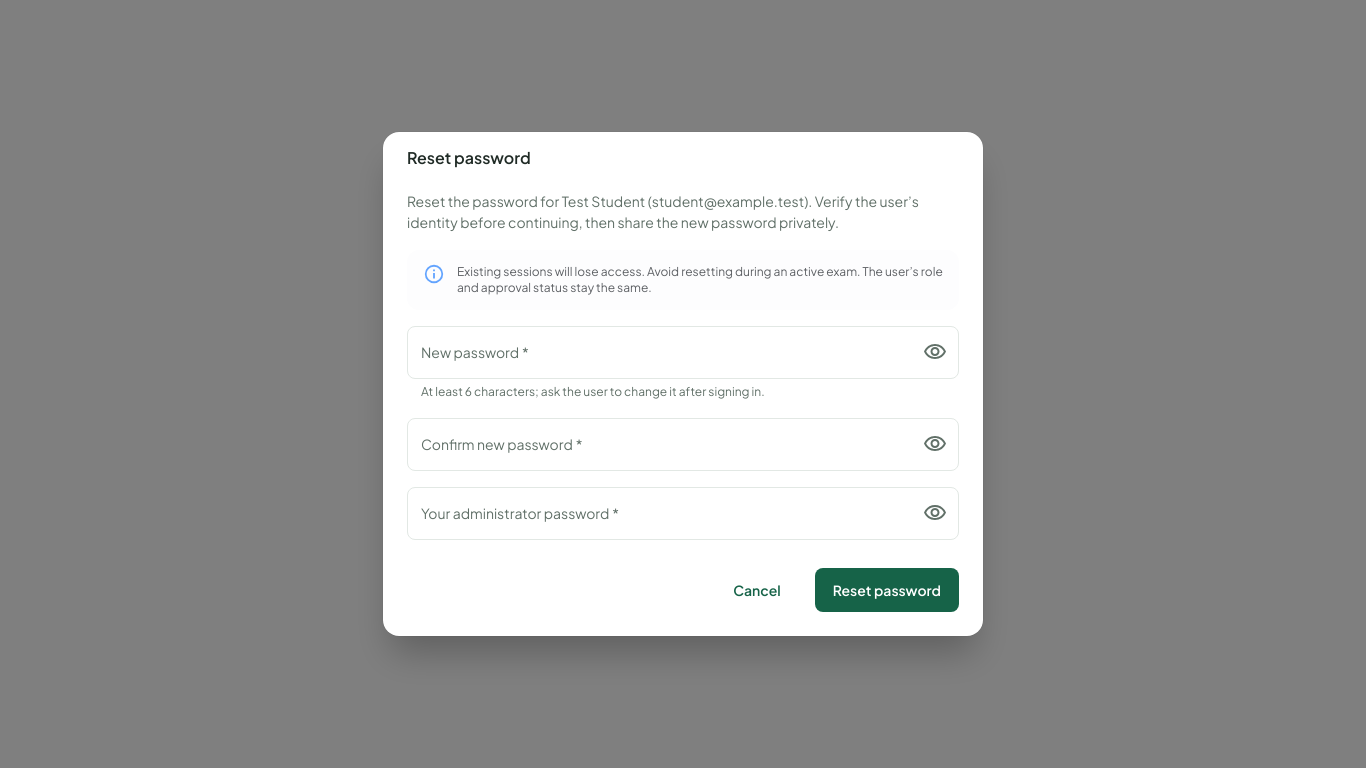
failed administrator verification keeps the form available for retry
Type "new-password" into the password field labelled "New password *" at {"x": 656, "y": 352}, box [407,326,905,379]
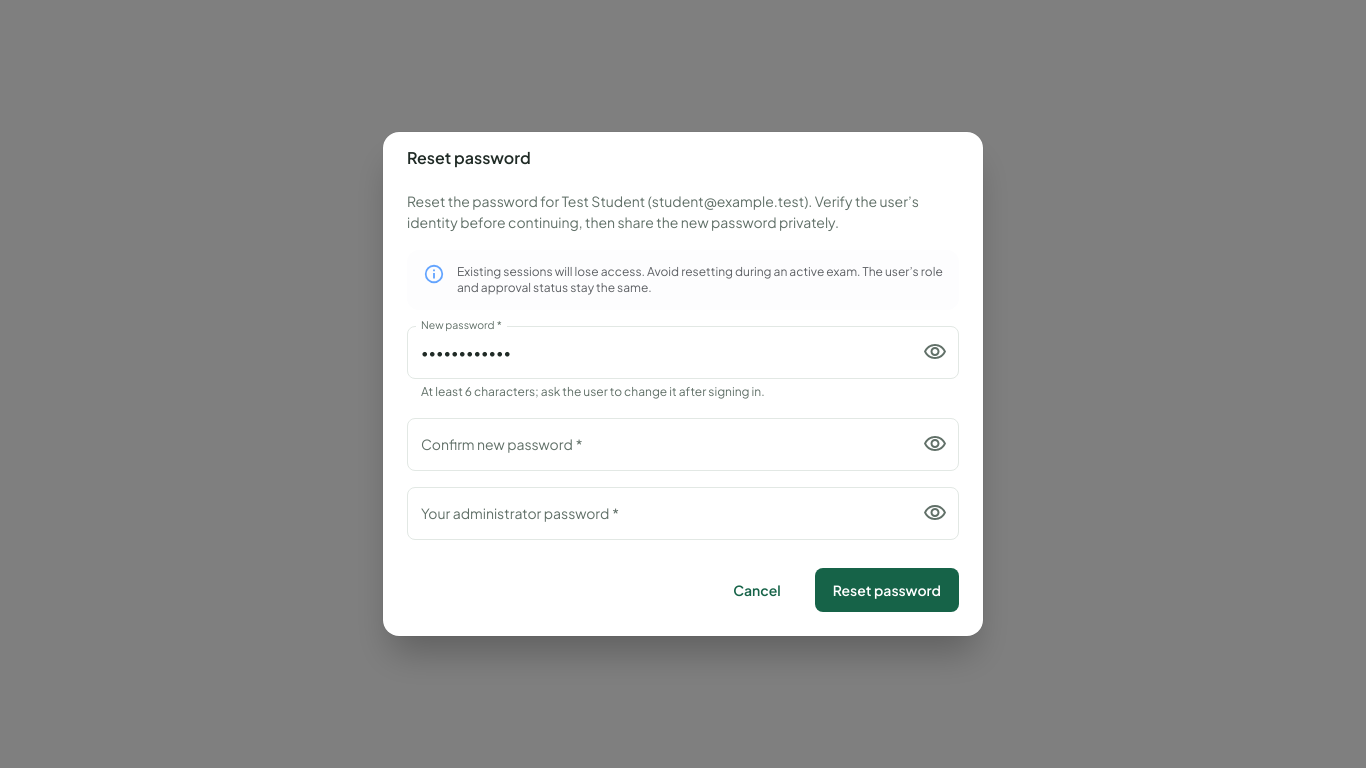
Type "new-password" into the password field labelled "Confirm new password *" at {"x": 656, "y": 444}, box [407,418,905,471]
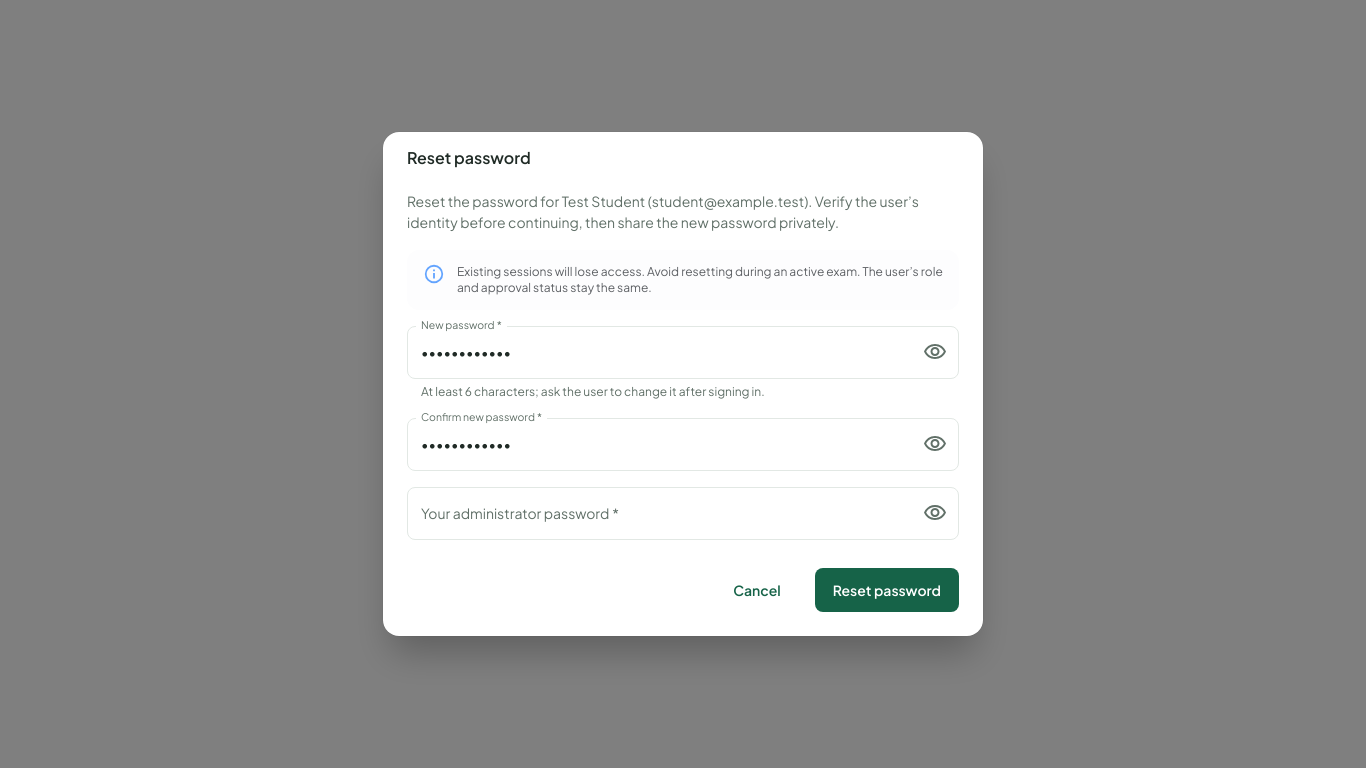
Type "admin-password" into the password field labelled "Your administrator password *" at {"x": 656, "y": 513}, box [407,487,905,540]
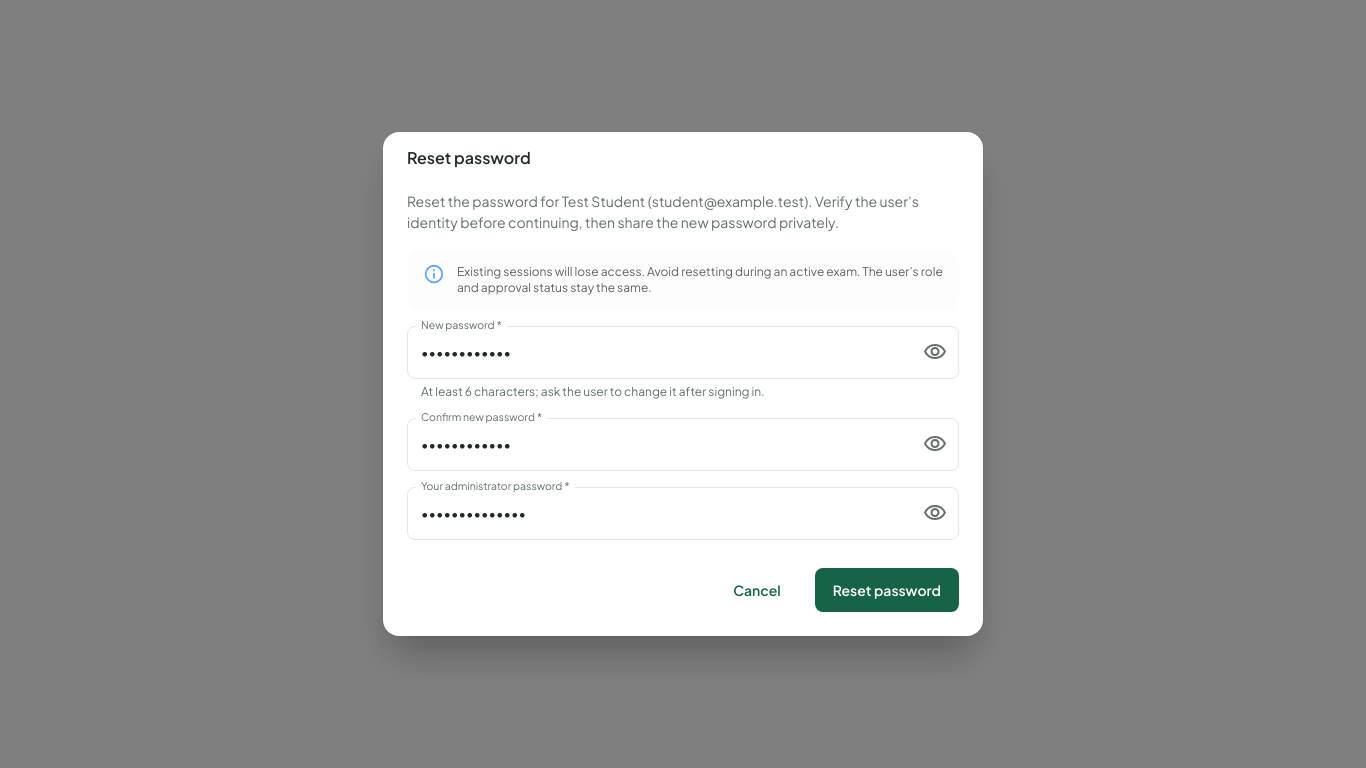
Click the button "Reset password" at {"x": 887, "y": 590}, box [815,568,959,612]
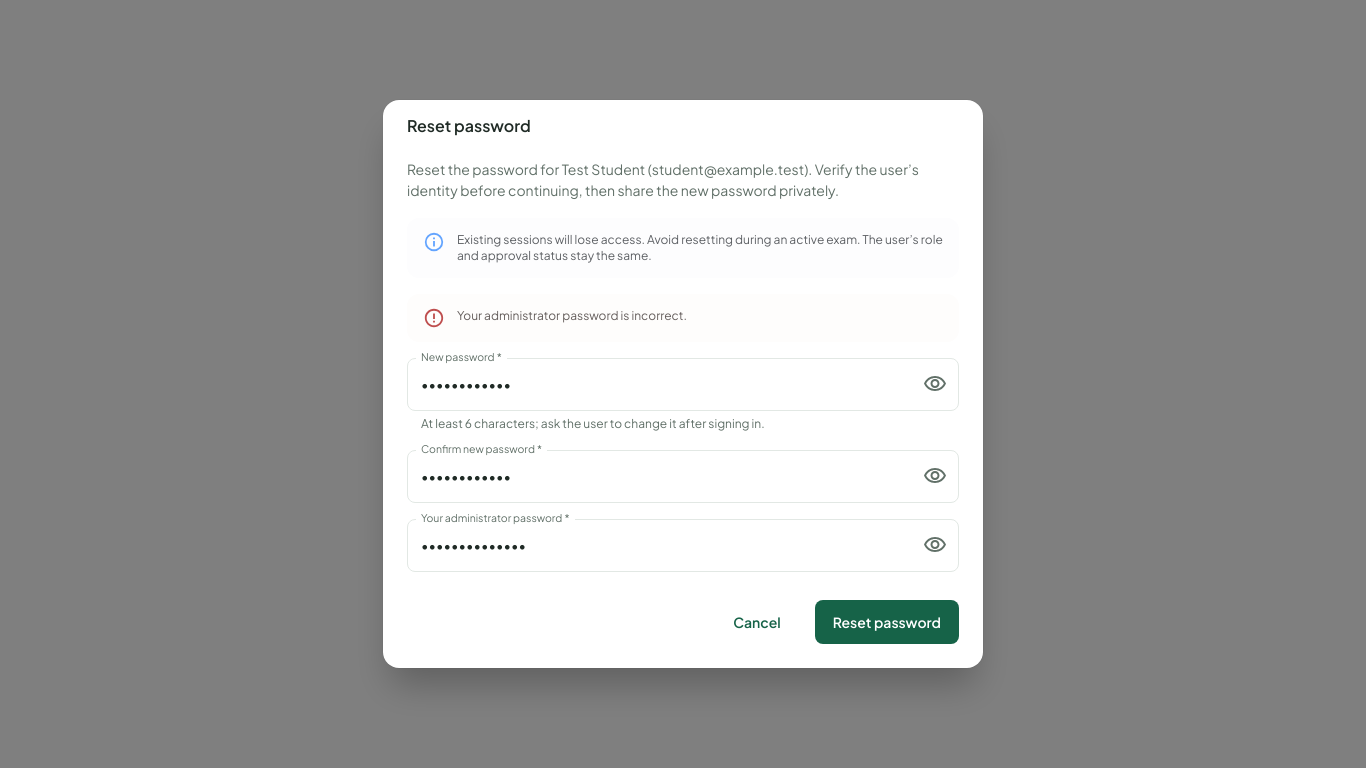
Expected: the button "Reset password" is enabled, [815,600,959,644]
Now the text "Your administrator password is incorrect." is shown, box [457,308,687,322]
